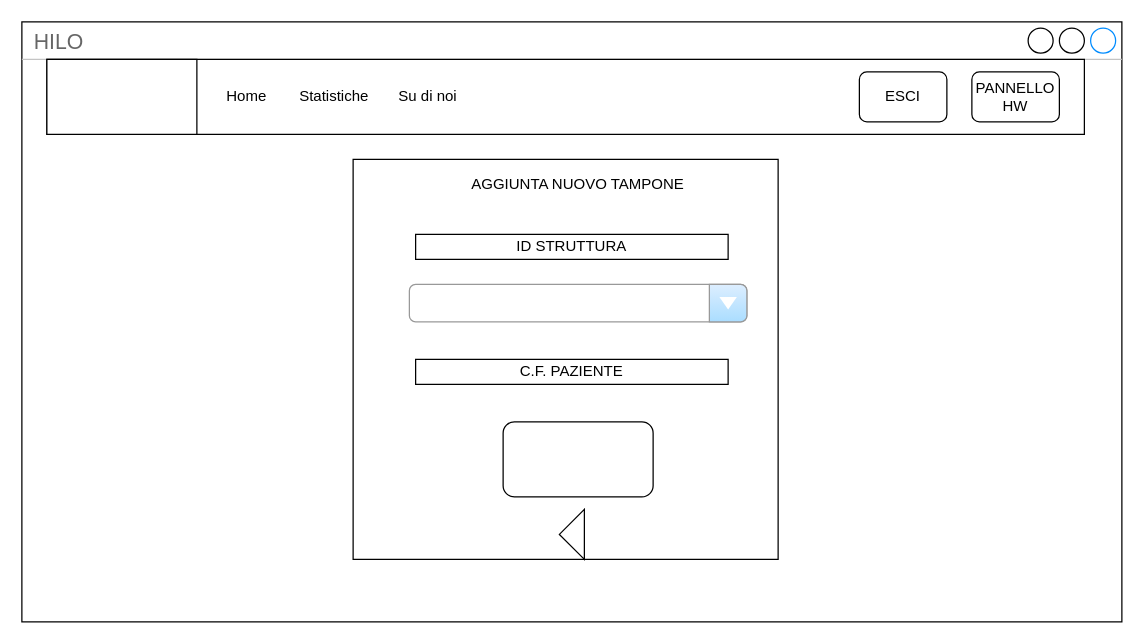
Some shapes in this 1144 by 644 pixel diagram are drawn without their labels. The shapes that lost their labels are listed below. From the top down, each one's centre as x and y in pixels, then its label:
(x=121, y=96): LOGO
(x=577, y=302): PROVENIENZA TAMPONE
(x=577, y=459): INVIA
